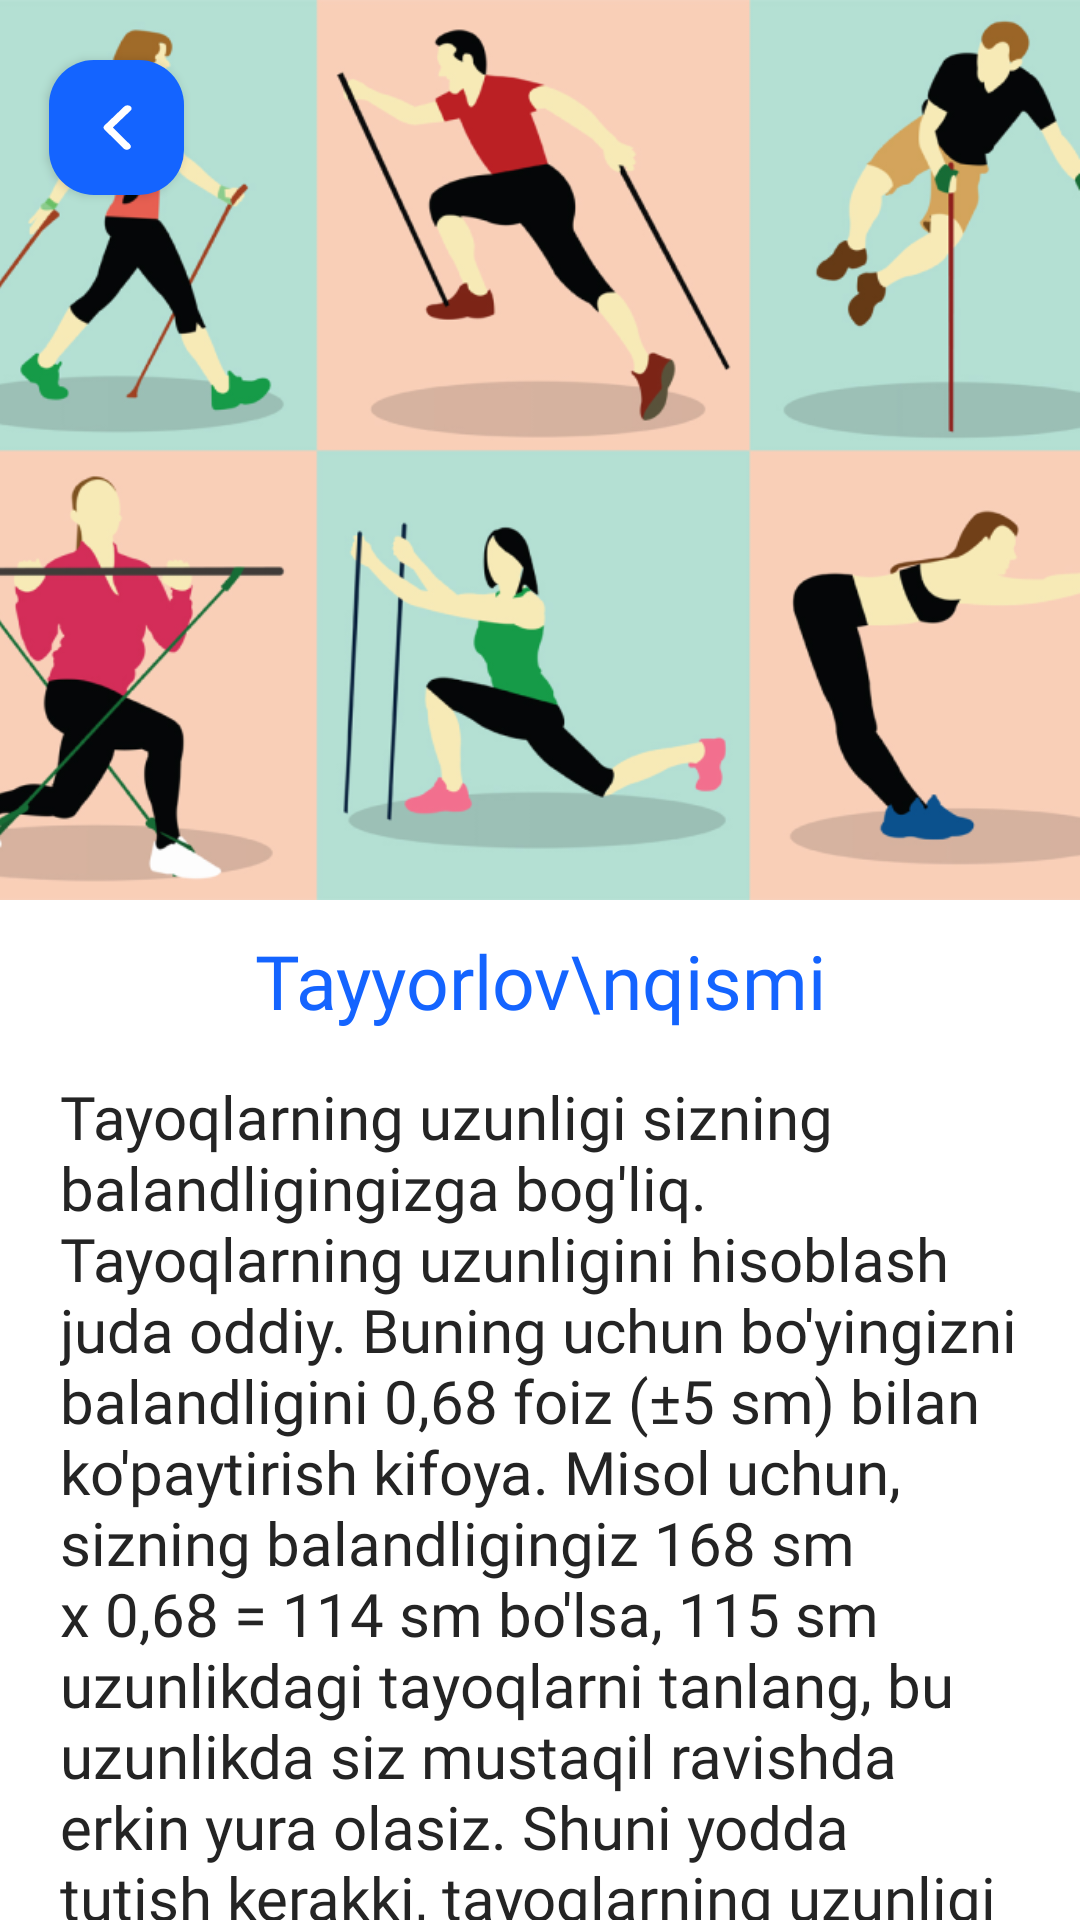

Point at icon controls on the screen. Image size 1080 × 1920, points as [x,y].
left arrow: [116,127]
